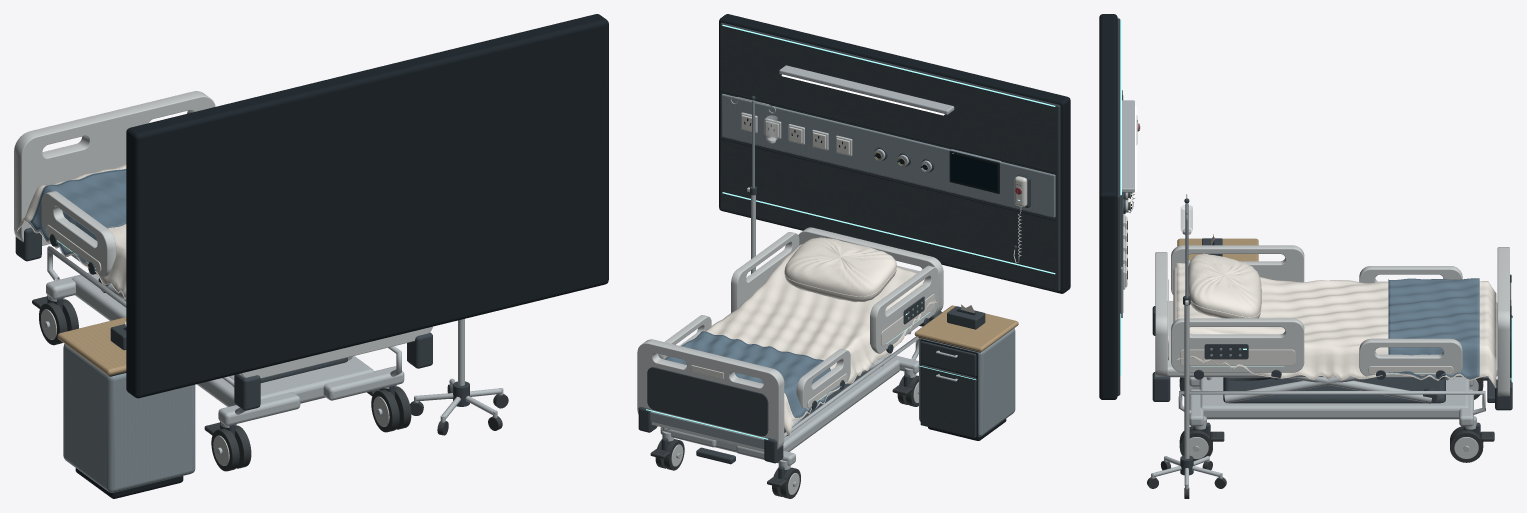
The model's file is ward-graphite-bed-v1.glb.
3 views of the same model, side by side, from view 1: azimuth 30°, elevation 25°; view 2: azimuth 150°, elevation 25°; view 3: azimuth 270°, elevation 25° (orthographic). The views are drawn at different scales.
Parts seen in each view (by area): view 1: BedUnit_Static, BedBody_Static, BedsideCabinet_Static, IVStand_Static; view 2: BedUnit_Static, BedBody_Static, BedsideCabinet_Static, BedTerminalSurface, IVStand_Static, BedTerminal_Static; view 3: BedBody_Static, BedUnit_Static, IVStand_Static, BedsideCabinet_Static.
Part boxes in pixels (box(x1,y1,x2,y2)): BedUnit_Static: box(126, 14, 608, 398); BedBody_Static: box(14, 91, 432, 471); BedsideCabinet_Static: box(57, 317, 195, 498); IVStand_Static: box(410, 319, 508, 435); BedUnit_Static: box(719, 14, 1070, 293); BedBody_Static: box(637, 227, 943, 498); BedsideCabinet_Static: box(914, 304, 1018, 440); BedTerminalSurface: box(951, 153, 997, 191); IVStand_Static: box(730, 95, 775, 273); BedTerminal_Static: box(949, 149, 1000, 193); BedBody_Static: box(1152, 245, 1512, 462); BedUnit_Static: box(1099, 14, 1140, 399); IVStand_Static: box(1147, 194, 1226, 498); BedsideCabinet_Static: box(1177, 234, 1258, 261).
Bounding box in the file's own units: 2.7 × 2.26 × 2.6.
Materials: 24 (8 with a texture image).
